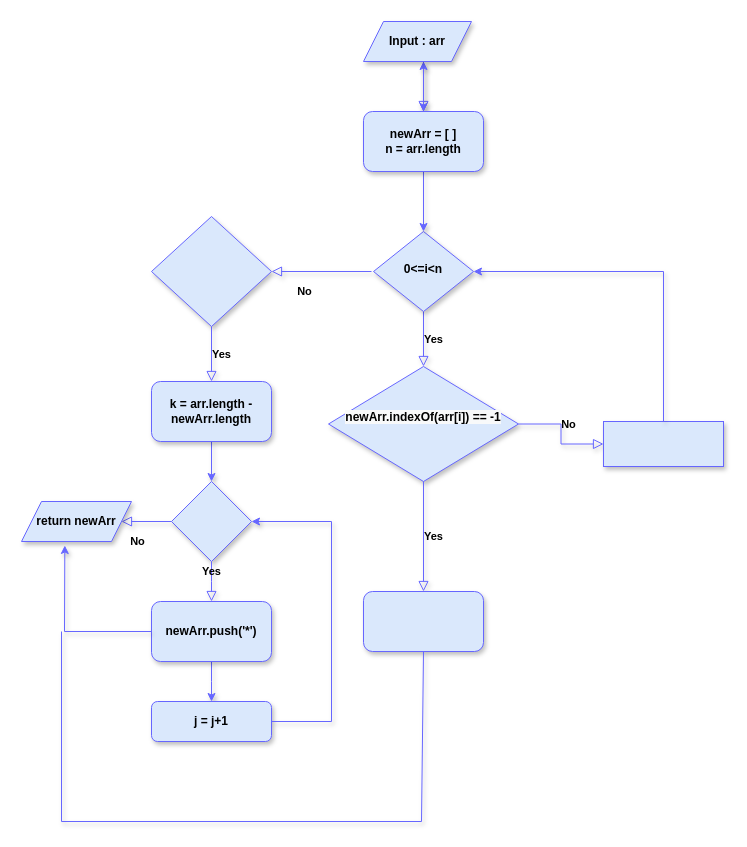
This 747x847 diagram has some shape labels left out. Each missing label, with the centre of its shape:
"0=<j<k" goes at (x=212, y=522).
"i = i+1" goes at (x=664, y=445).
"newArr.length < arr.length" goes at (x=212, y=273).
"newArr.push(arr[i])" goes at (x=424, y=622).
